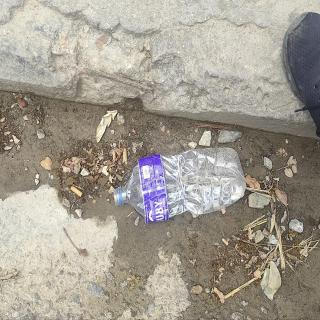Plastic-bottle: (111, 144, 250, 228)
